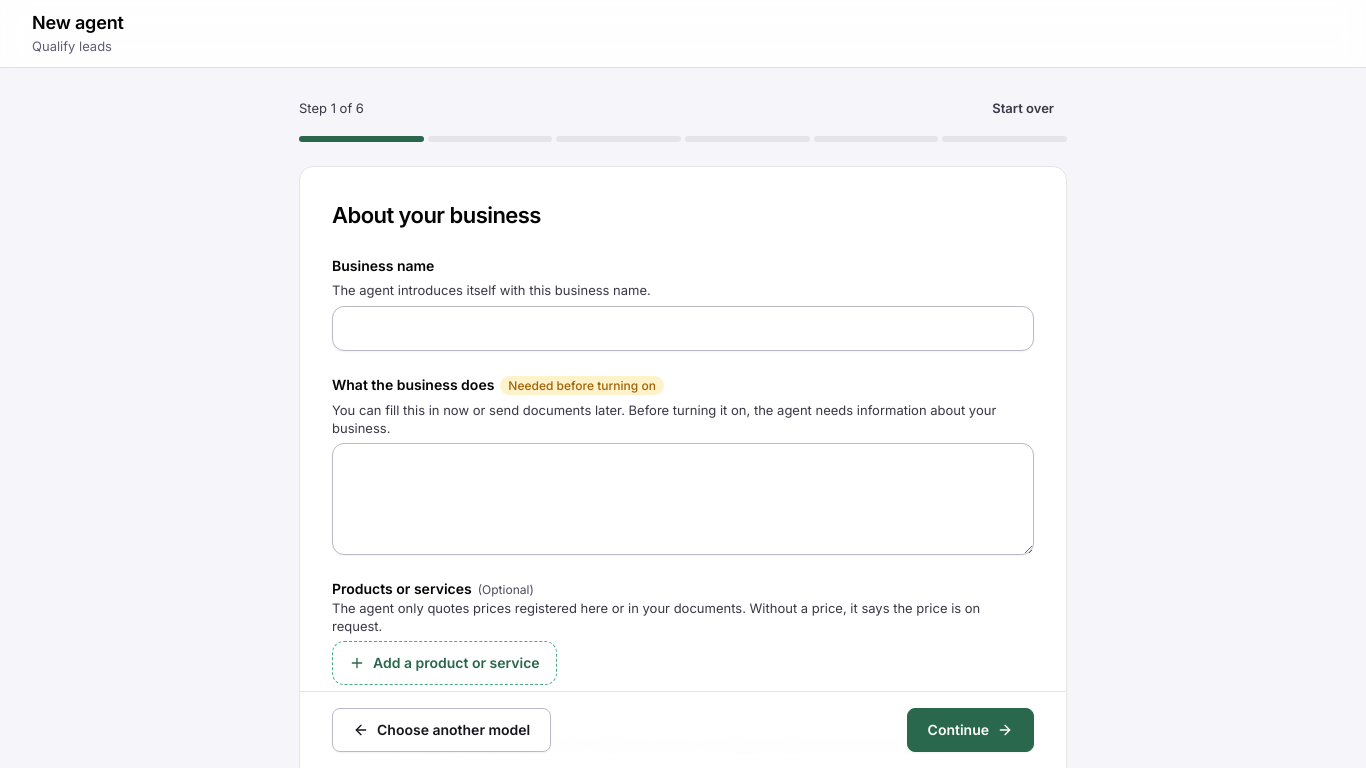
Test: AgentWizard: step validation and navigation › blocks Continue with an error summary that links to the field
Expected: the heading "About your business" is shown, [332,202,541,228]
Click the button "Continue".
click(970, 730)  # box [907,708,1034,752]
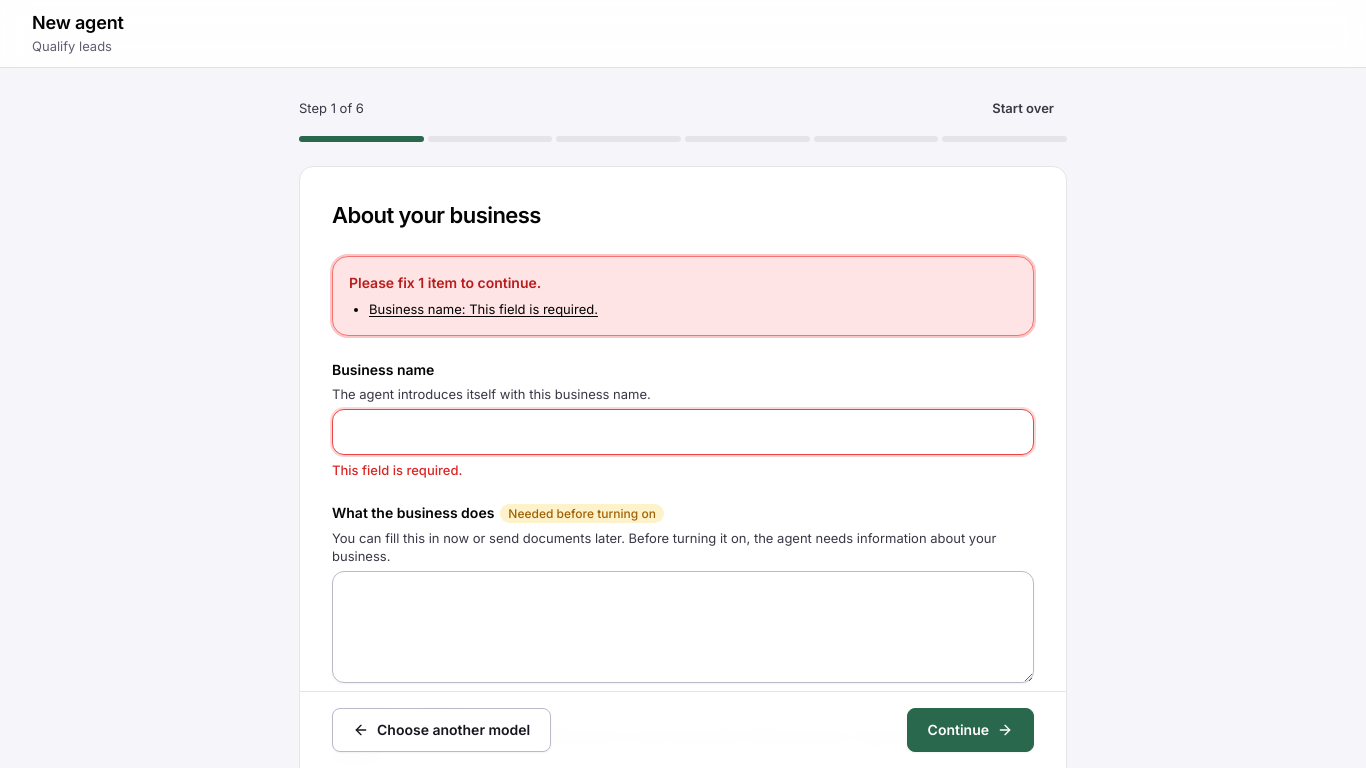
Now the field labelled "Business name" is marked as invalid
Type "Clinic" into the field labelled "Business name".
click(683, 432); type("Clinic")  # box [332,409,1034,455]
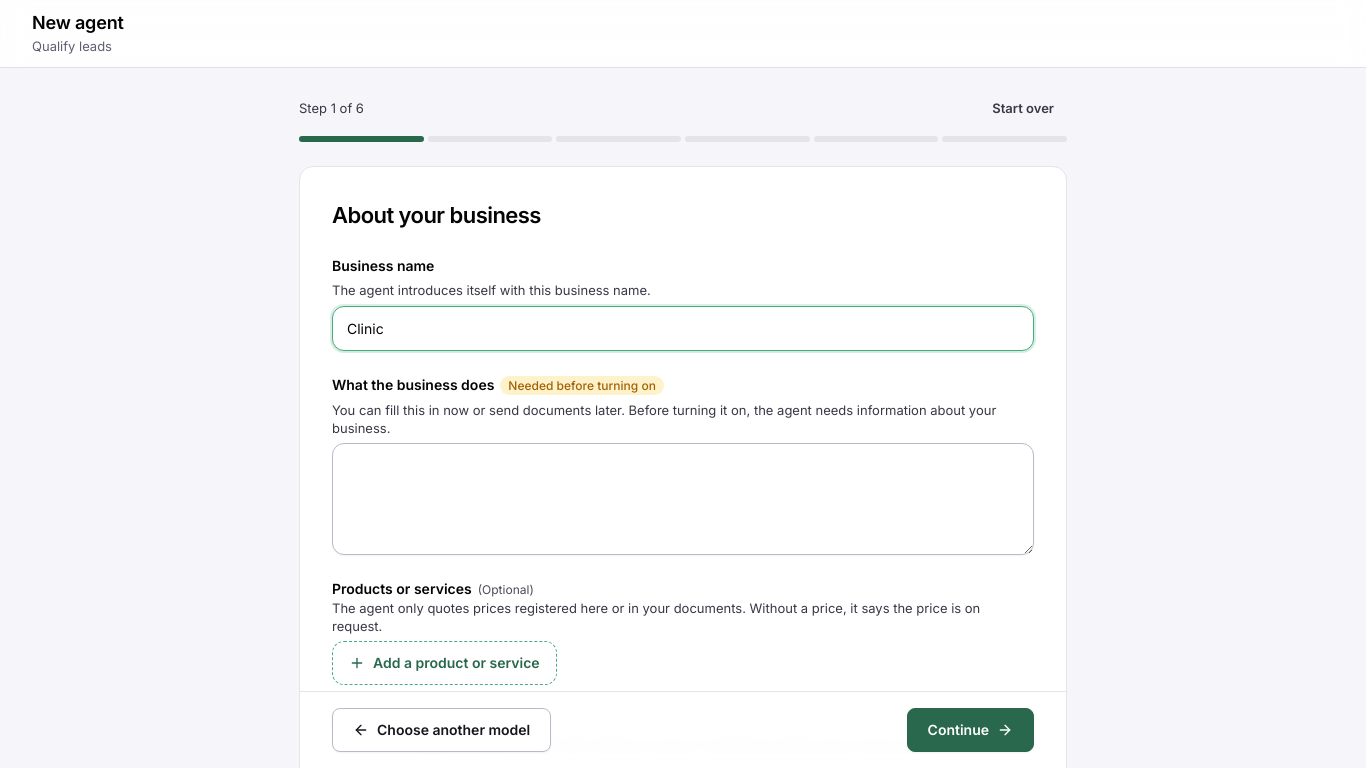
Now the text "Please fix 1 item to continue." is gone
Click the button "Continue".
click(970, 730)  # box [907,708,1034,752]
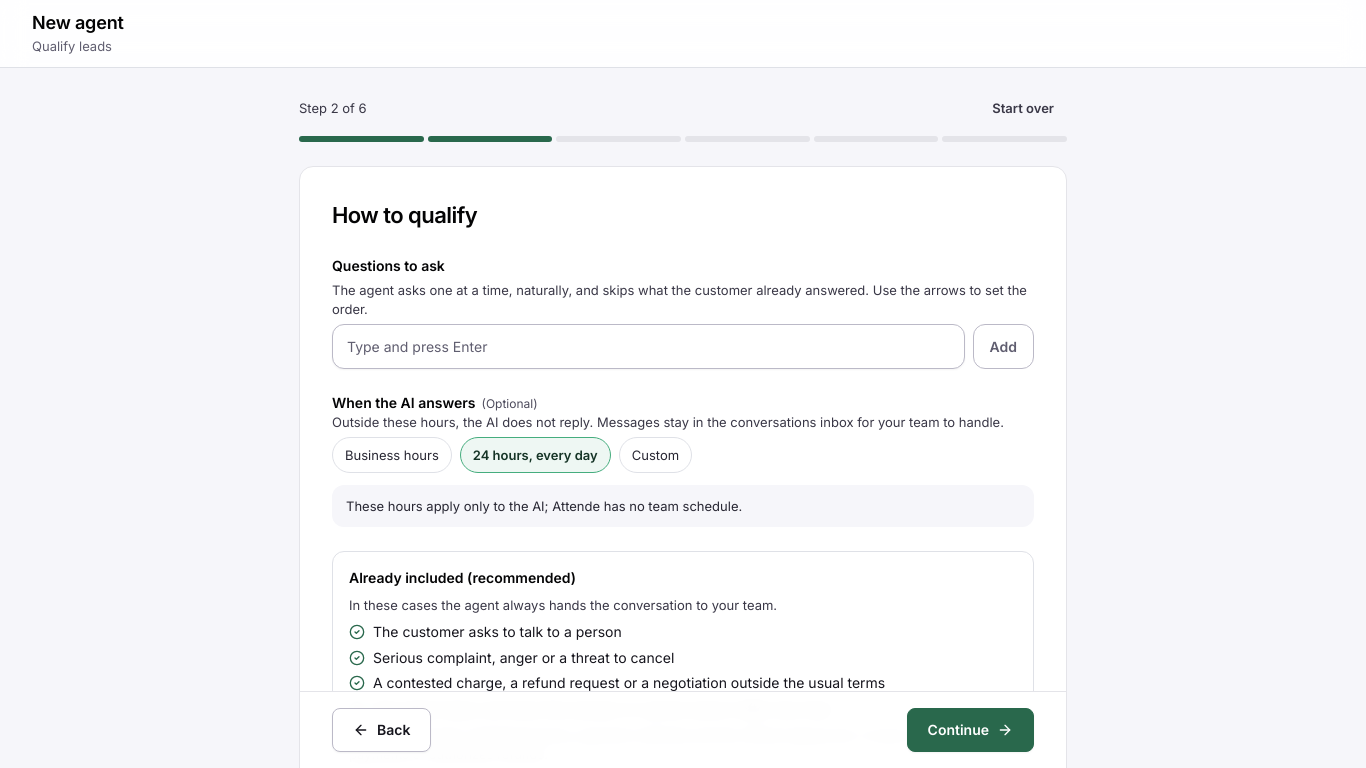
Now the heading "How to qualify" is shown, box [332,202,477,228]
Click the button "Back".
click(382, 730)  # box [332,708,431,752]
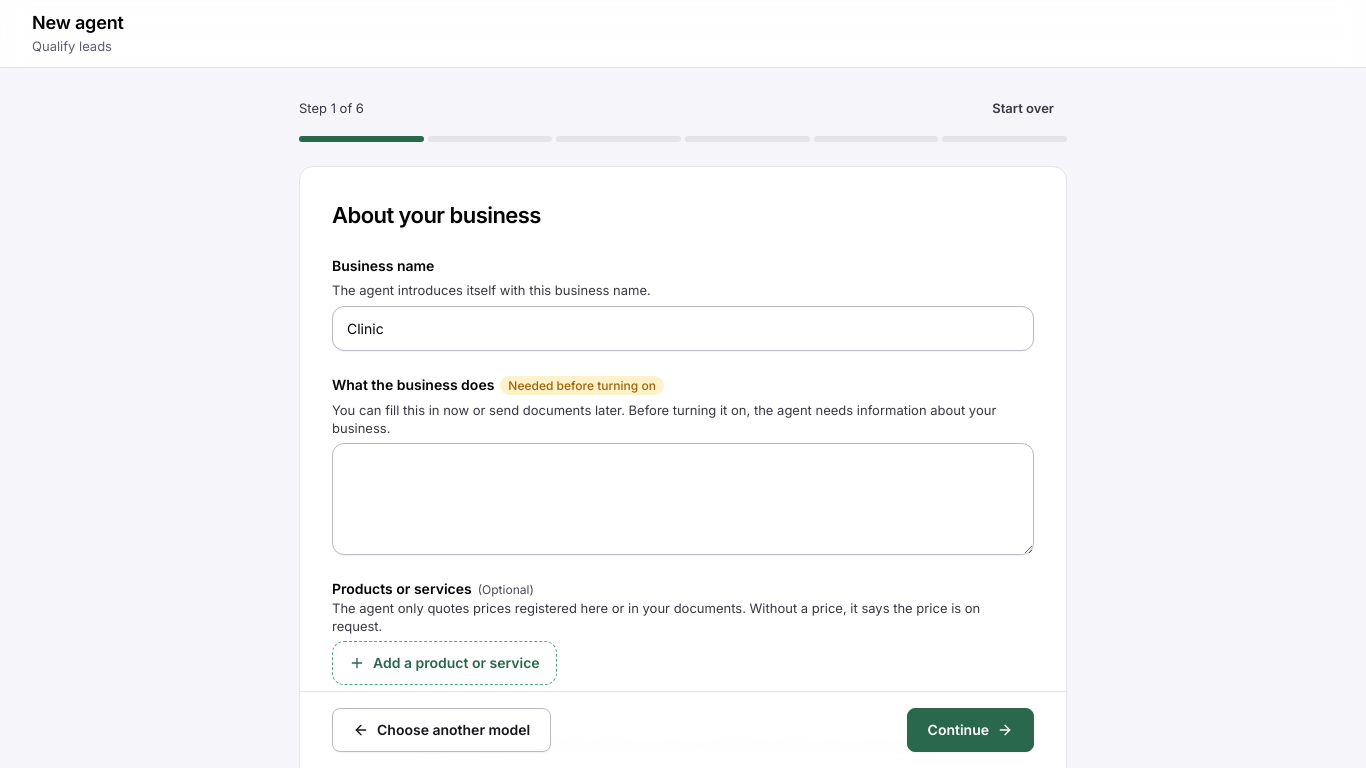
Now the field labelled "Business name" holds "Clinic", box [332,306,1034,351]
